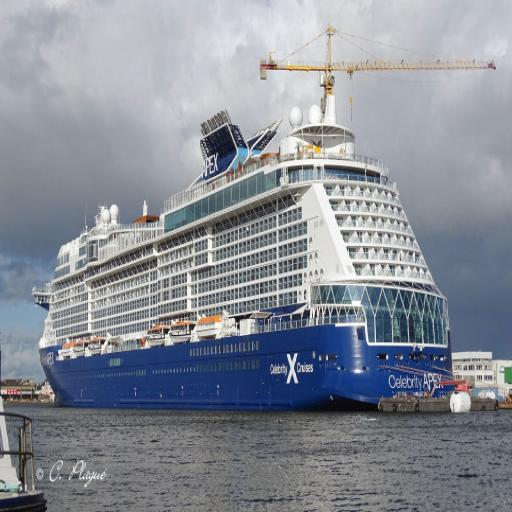cruises: (29, 92, 458, 420)
